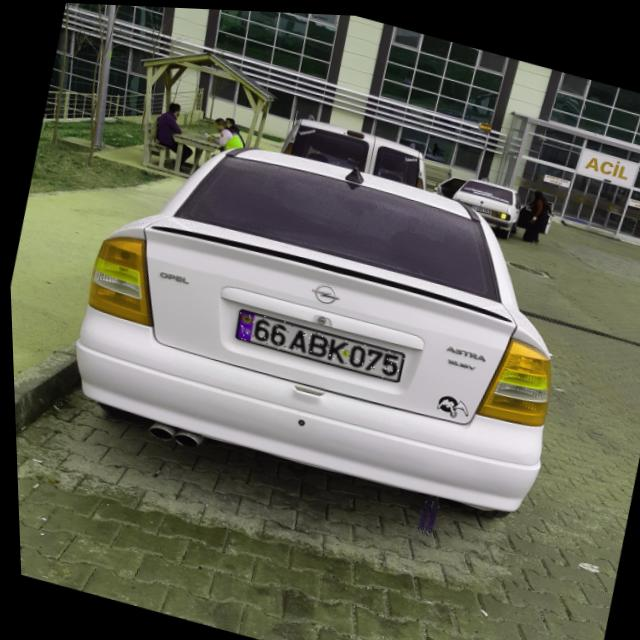license_plate: (232, 307, 403, 379)
